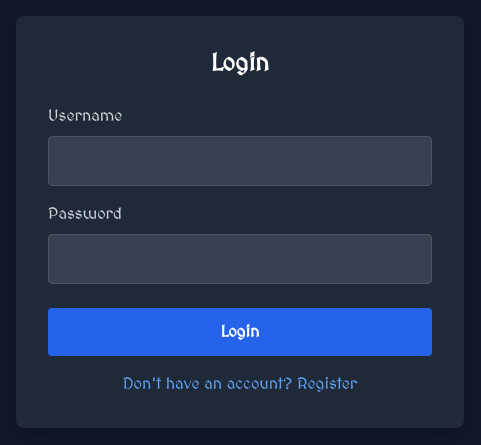
Test case: Login component › disables button while loading
Type "testuser" into the field labelled "Username". click: (240, 161)
box: [48,136,432,186]
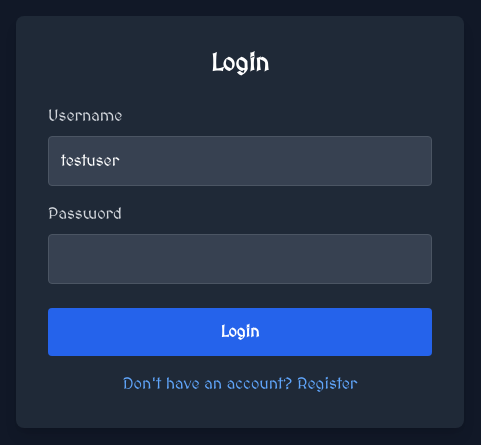
Type "password123" into the password field labelled "Password". click: (240, 259)
box: [48,234,432,284]
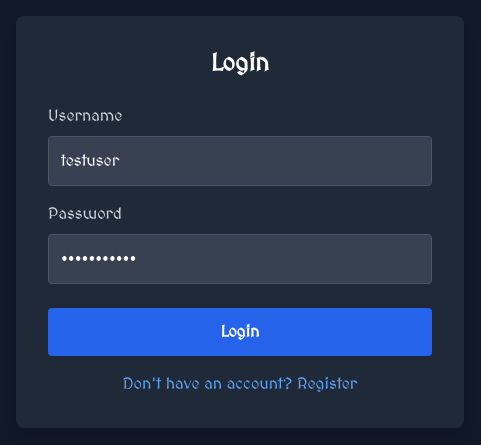
Click the button "Login". click: (240, 332)
box: [48,308,432,356]
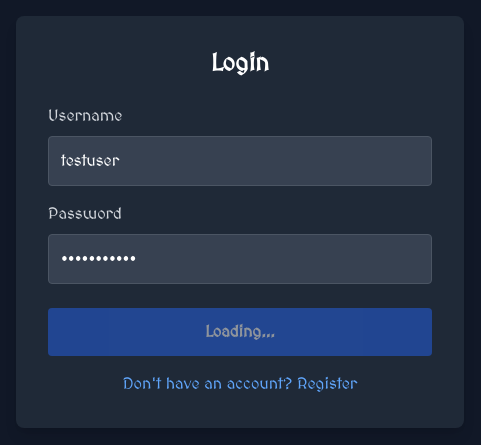
Expected: the button "Loading..." is disabled, [48,308,432,356]
